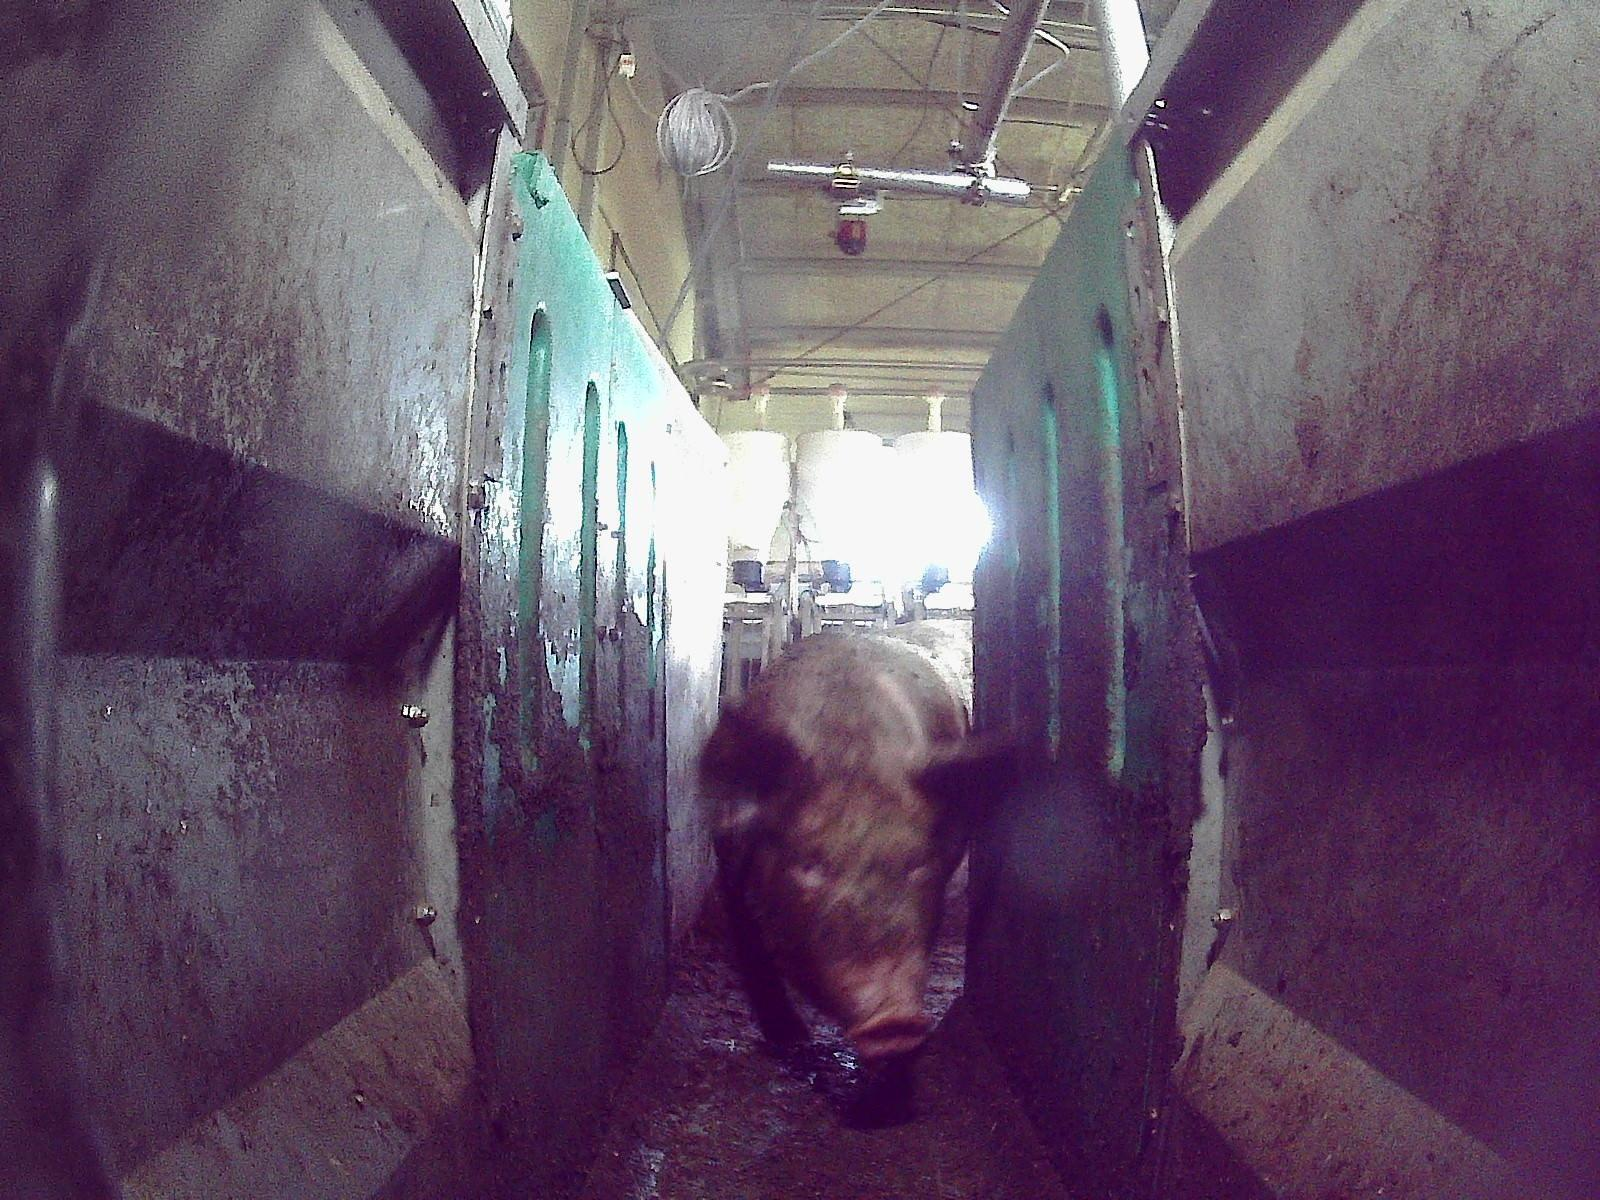Face: (753, 756, 944, 1056)
